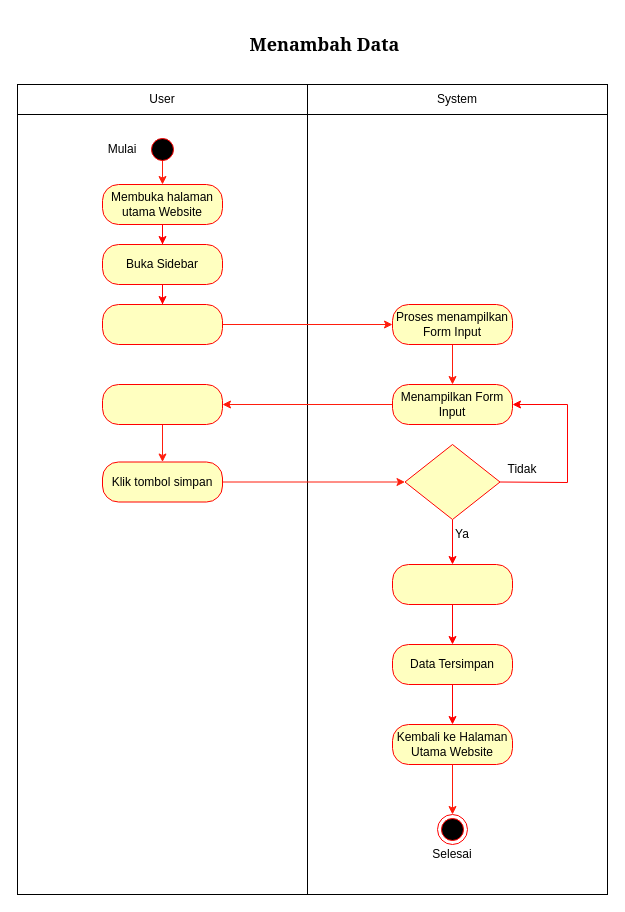
This 625x912 diagram has some shape labels left out. The shapes that lost their labels are listed below. From the top down, each one's box as (x1, y1, x2, y2) in pixels, then its label:
(102, 304, 222, 344): Pilih menu "Create Mail"
(102, 384, 222, 424): Memasukkan data
(404, 444, 500, 520): Simpan Data ?
(392, 564, 512, 604): Proses Menyimpan Data
